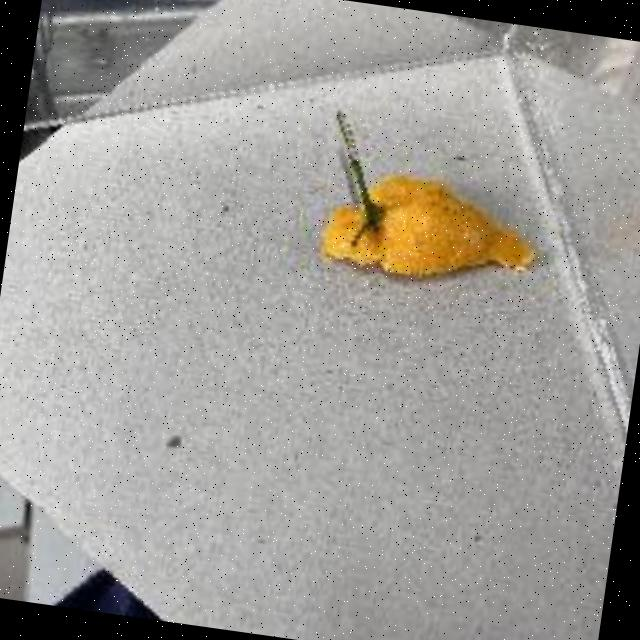orange-peel: (314, 158, 546, 298)
